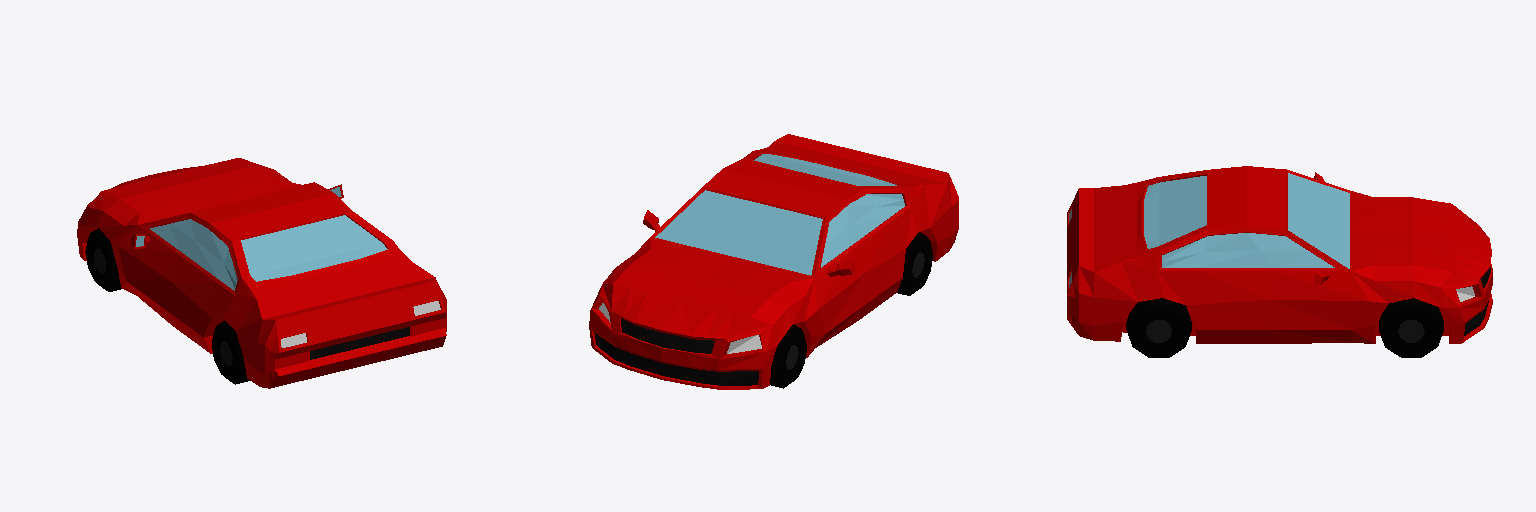
The model's file is car.obj.
The picture shows the model from 3 angles: view 1: azimuth 30°, elevation 25°; view 2: azimuth 150°, elevation 25°; view 3: azimuth 270°, elevation 25°; orthographic projection.
Parts seen in each view (by area): view 1: Body_Cube.001, BackLeftWheel_Cylinder.001, FrontLeftWheel_Cylinder; view 2: Body_Cube.001, FrontLeftWheel_Cylinder, BackLeftWheel_Cylinder.001; view 3: Body_Cube.001, BackRightWheel_Cylinder.003, FrontRightWheel_Cylinder.002.
Boxes of the visible parts, box(x1,y1,x2,y2) form: Body_Cube.001: box(77, 158, 446, 388); BackLeftWheel_Cylinder.001: box(212, 321, 249, 384); FrontLeftWheel_Cylinder: box(85, 228, 121, 291); Body_Cube.001: box(589, 134, 958, 389); FrontLeftWheel_Cylinder: box(770, 324, 806, 388); BackLeftWheel_Cylinder.001: box(897, 232, 932, 295); Body_Cube.001: box(1067, 166, 1492, 343); BackRightWheel_Cylinder.003: box(1126, 298, 1191, 357); FrontRightWheel_Cylinder.002: box(1379, 298, 1443, 357).
Size of the model in its own units: 1.07 by 0.5792 by 1.87.